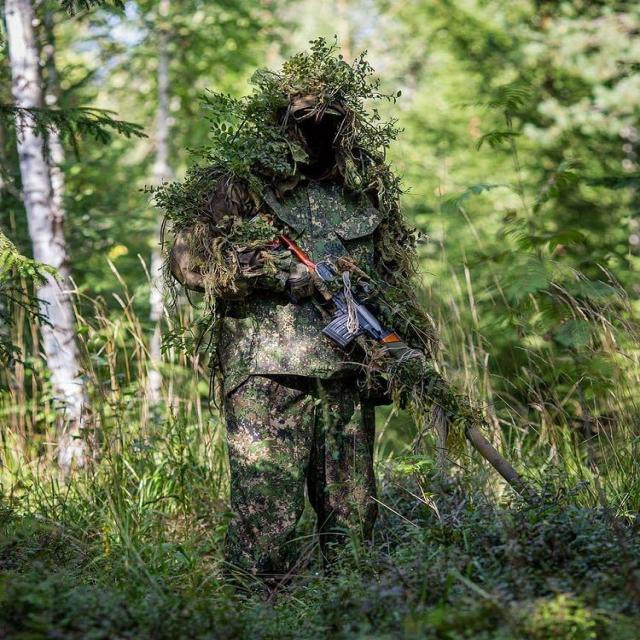Human: (160, 39, 548, 594)
